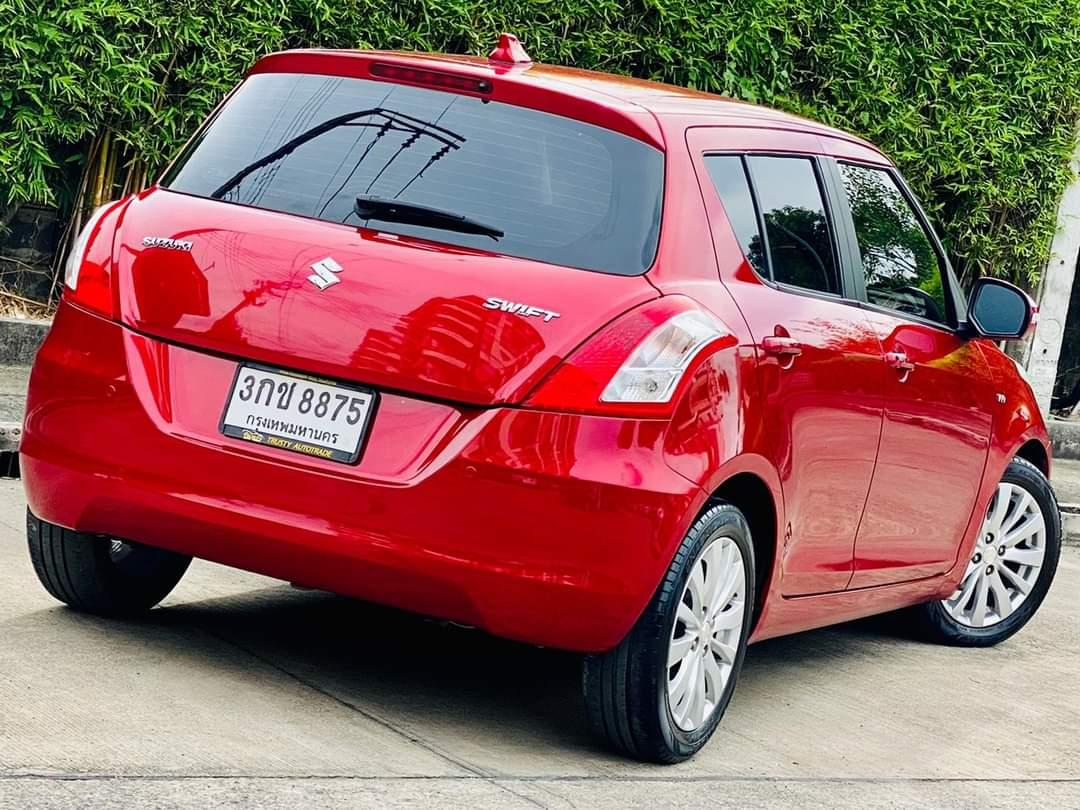license-plate: (214, 351, 382, 469)
